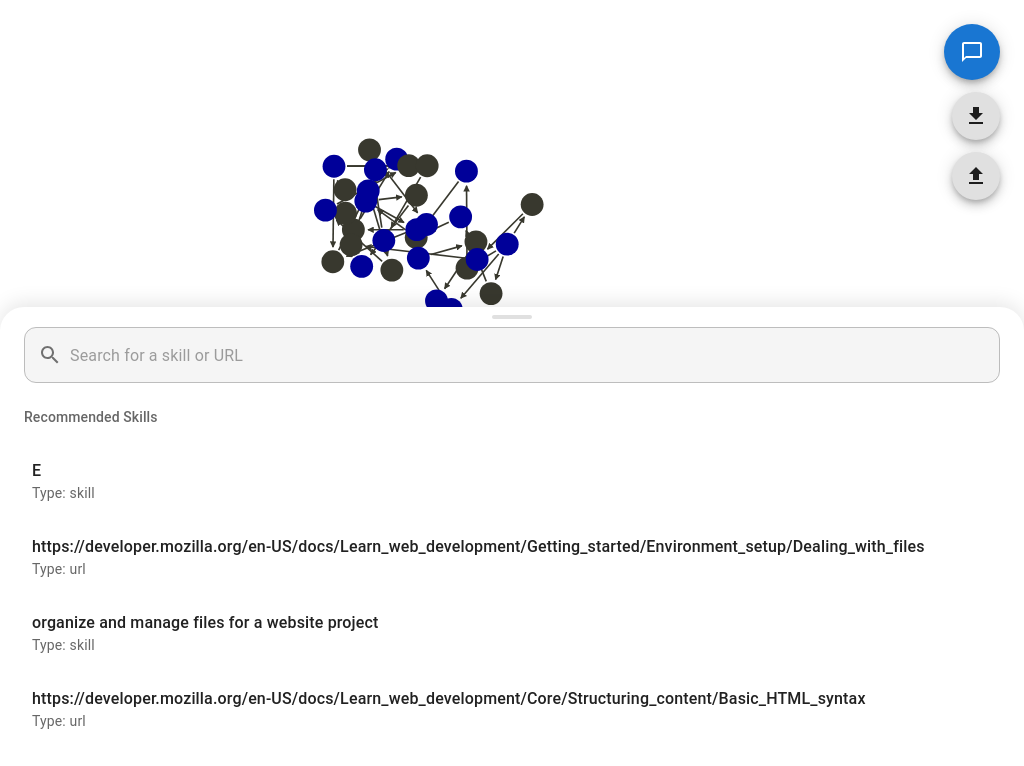
Test case: Generate Path Button › becomes enabled when a search result is selected
Click the field with placeholder "Search for a skill or URL" at (535, 355), box [70,327,1000,383]
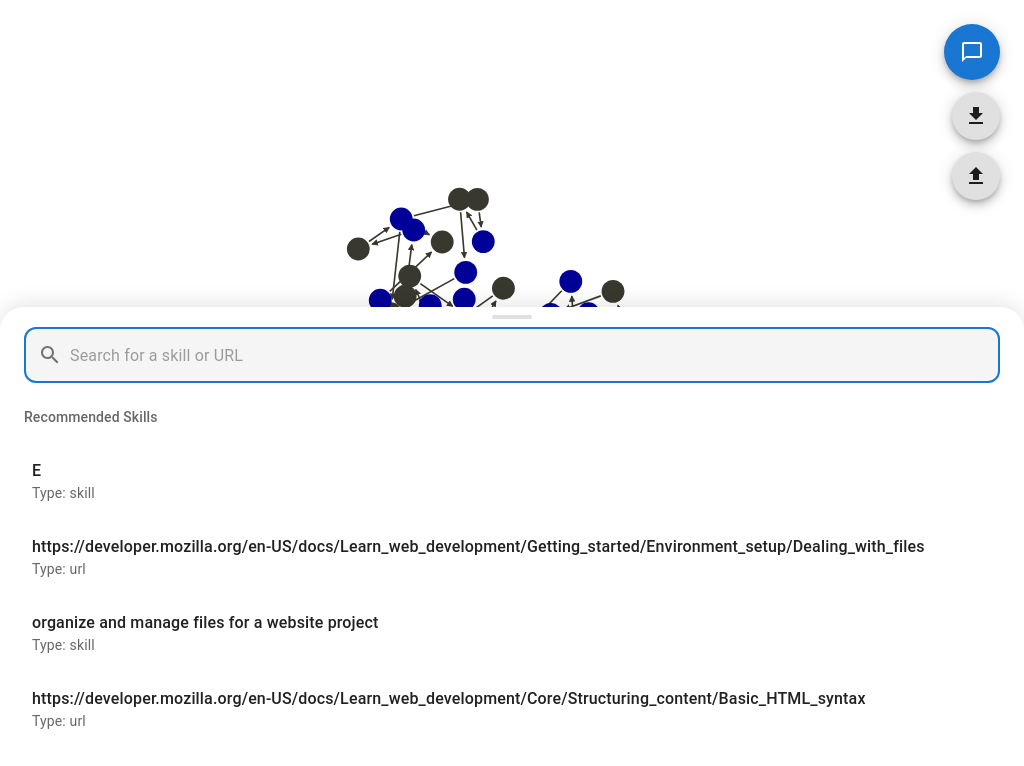
Type keys "javascript"
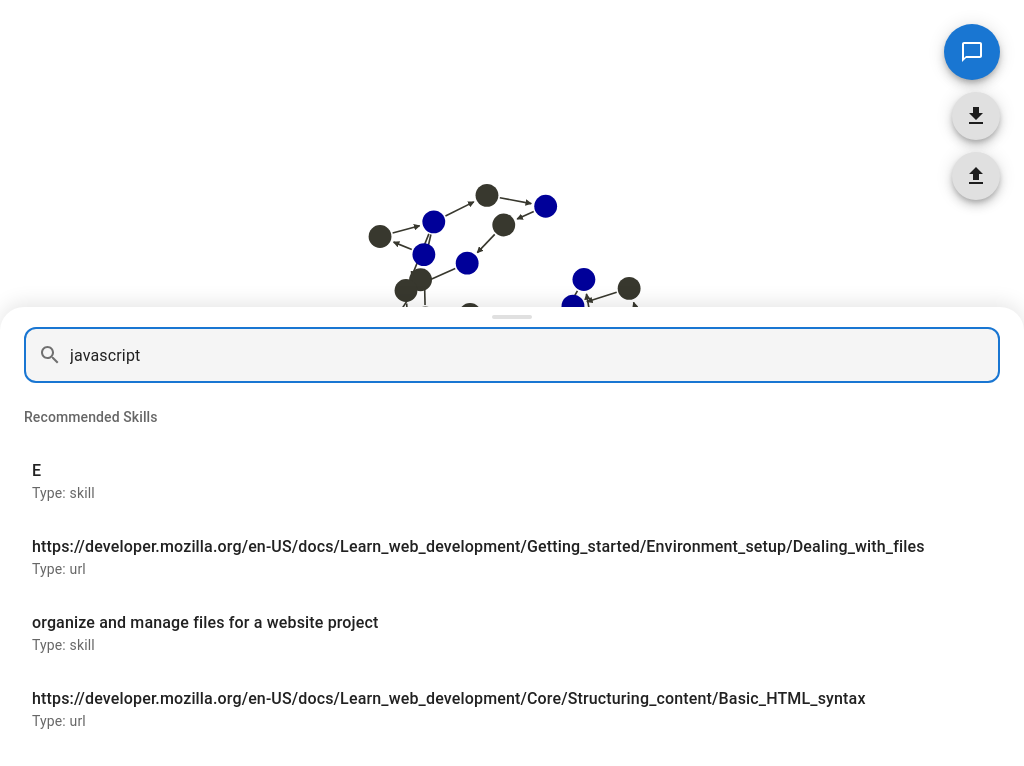
Press Enter
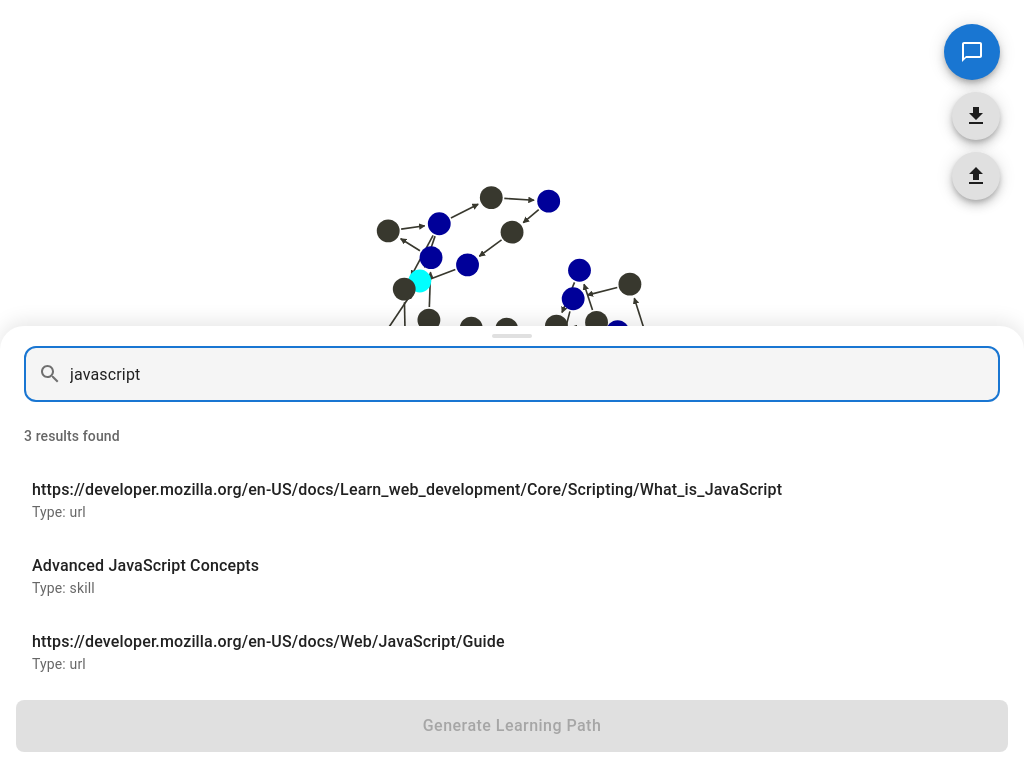
Click the button named "javascript" at (407, 500), box [32,480,782,520]
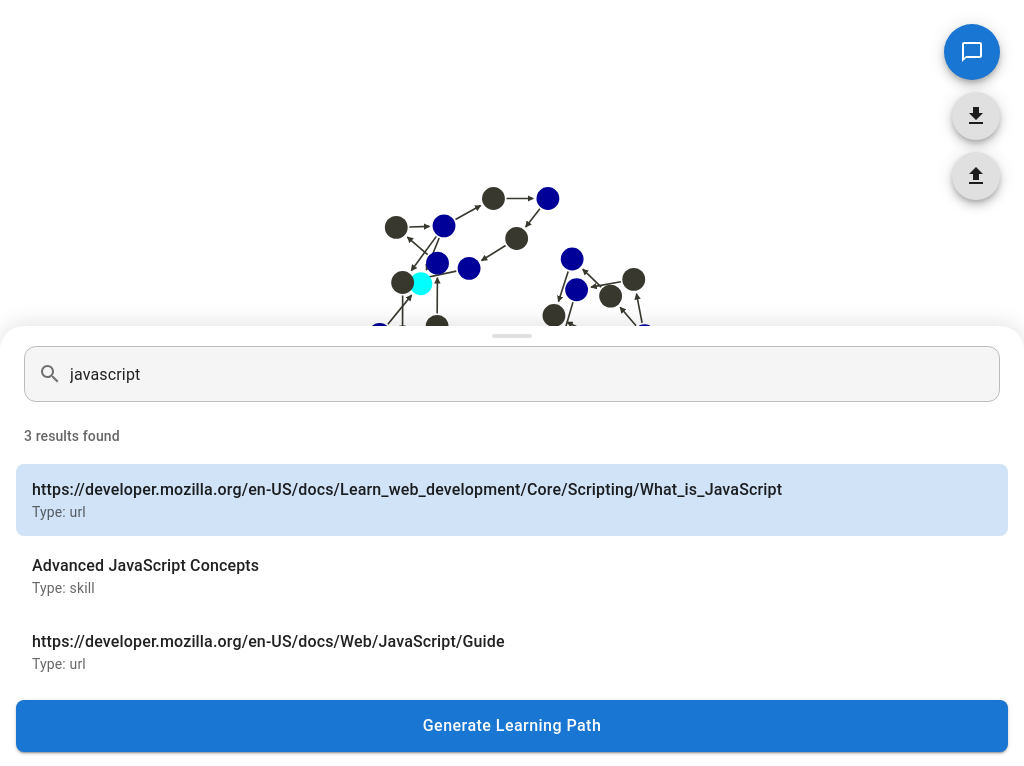
Expected: the button "Generate Learning Path" is enabled, [16,700,1008,752]
